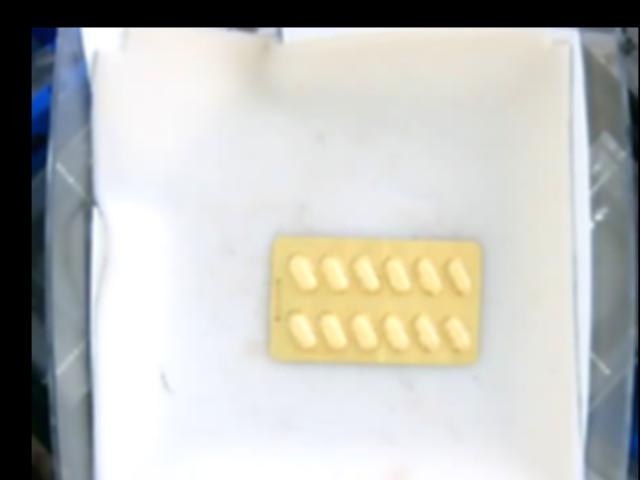Medicine: (269, 239, 483, 364)
